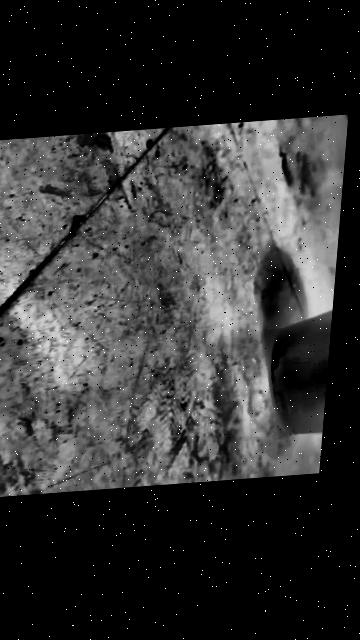pot: (265, 289, 334, 446)
